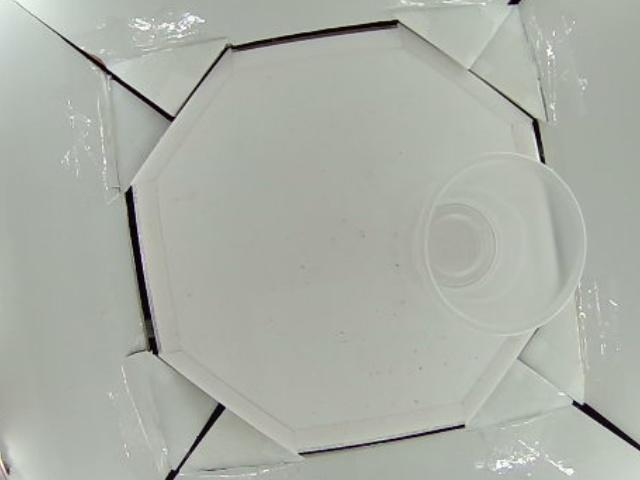Cup: (412, 148, 589, 336)
